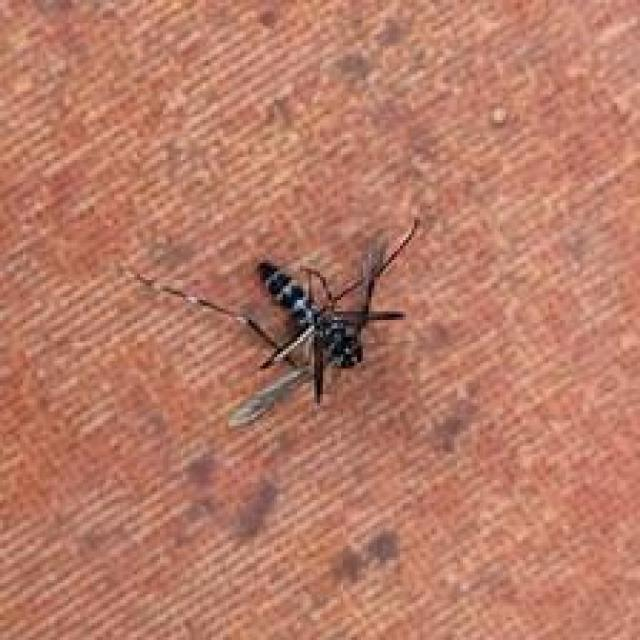Aedes albopictus: (121, 216, 422, 430)
